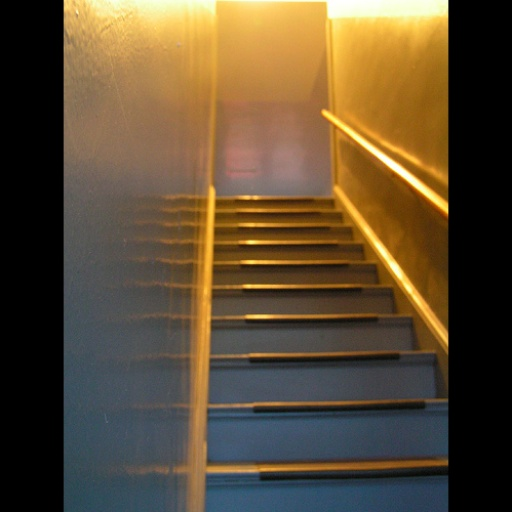Stairs: (206, 196, 447, 512)
